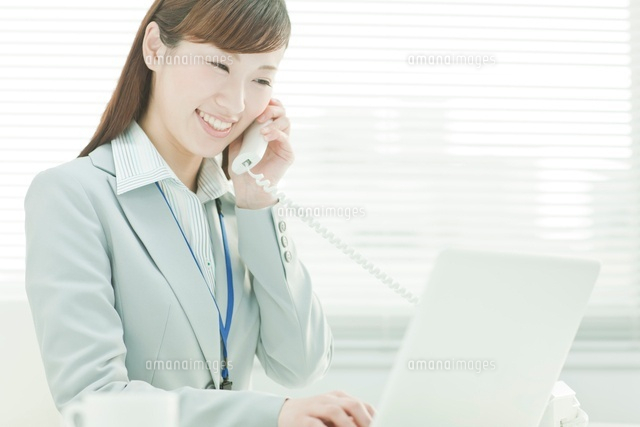phone: (242, 88, 299, 175)
talk: (176, 44, 310, 197)
